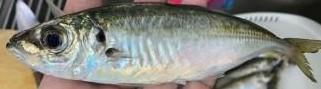fish: (4, 3, 320, 86)
